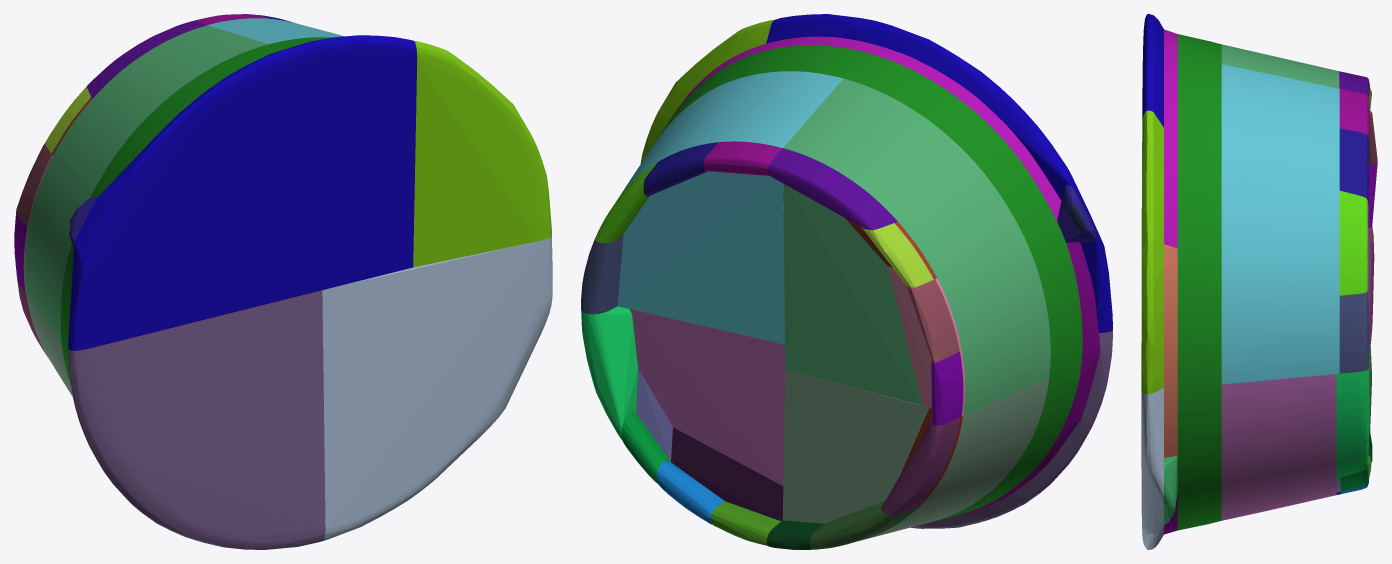
File: coacd_collision.obj
The picture shows the model from 3 angles, left to right: view 1: azimuth 30°, elevation 25°; view 2: azimuth 150°, elevation 25°; view 3: azimuth 270°, elevation 25°; orthographic projection. The views are drawn at different scales.
Visible parts, largest first — view 1: geometry_5, geometry_1, geometry_6, geometry_4, geometry_3, geometry_8, geometry_2, geometry_27, geometry_0, geometry_13, geometry_34, geometry_32; view 2: geometry_3, geometry_2, geometry_0, geometry_8, geometry_7, geometry_5, geometry_23, geometry_26, geometry_22, geometry_27, geometry_1, geometry_11 (+17 smaller); view 3: geometry_2, geometry_8, geometry_7, geometry_4, geometry_6, geometry_23, geometry_22, geometry_17, geometry_9, geometry_16, geometry_3, geometry_5 (+8 smaller).
Boxes of the visible parts, x1=… form: geometry_5: x1=68, y1=35, x2=417, y2=350; geometry_1: x1=68, y1=290, x2=325, y2=549; geometry_6: x1=322, y1=235, x2=552, y2=540; geometry_4: x1=413, y1=40, x2=551, y2=267; geometry_3: x1=24, y1=25, x2=267, y2=344; geometry_8: x1=60, y1=37, x2=332, y2=384; geometry_2: x1=208, y1=18, x2=343, y2=44; geometry_27: x1=87, y1=21, x2=206, y2=98; geometry_0: x1=26, y1=294, x2=72, y2=396; geometry_13: x1=16, y1=143, x2=51, y2=227; geometry_34: x1=45, y1=86, x2=90, y2=153; geometry_32: x1=14, y1=214, x2=26, y2=292; geometry_3: x1=783, y1=78, x2=1050, y2=415; geometry_2: x1=617, y1=71, x2=843, y2=344; geometry_0: x1=782, y1=370, x2=1049, y2=539; geometry_8: x1=656, y1=45, x2=1082, y2=521; geometry_7: x1=629, y1=309, x2=785, y2=485; geometry_5: x1=766, y1=14, x2=1112, y2=332; geometry_23: x1=581, y1=306, x2=637, y2=439; geometry_26: x1=671, y1=427, x2=783, y2=521; geometry_22: x1=676, y1=36, x2=1061, y2=220; geometry_27: x1=768, y1=148, x2=897, y2=230; geometry_1: x1=911, y1=330, x2=1112, y2=528; geometry_11: x1=955, y1=242, x2=1100, y2=515; geometry_2: x1=1221, y1=64, x2=1339, y2=384; geometry_8: x1=1177, y1=34, x2=1221, y2=530; geometry_7: x1=1221, y1=374, x2=1336, y2=520; geometry_4: x1=1141, y1=110, x2=1163, y2=394; geometry_6: x1=1141, y1=388, x2=1163, y2=549; geometry_23: x1=1336, y1=367, x2=1369, y2=478; geometry_22: x1=1164, y1=29, x2=1177, y2=248; geometry_17: x1=1339, y1=190, x2=1368, y2=295; geometry_9: x1=1164, y1=244, x2=1177, y2=457; geometry_16: x1=1339, y1=291, x2=1368, y2=373; geometry_3: x1=1221, y1=44, x2=1339, y2=88; geometry_5: x1=1142, y1=14, x2=1163, y2=127.
Bounding box in the file's own units: 179 × 179 × 79.01.
